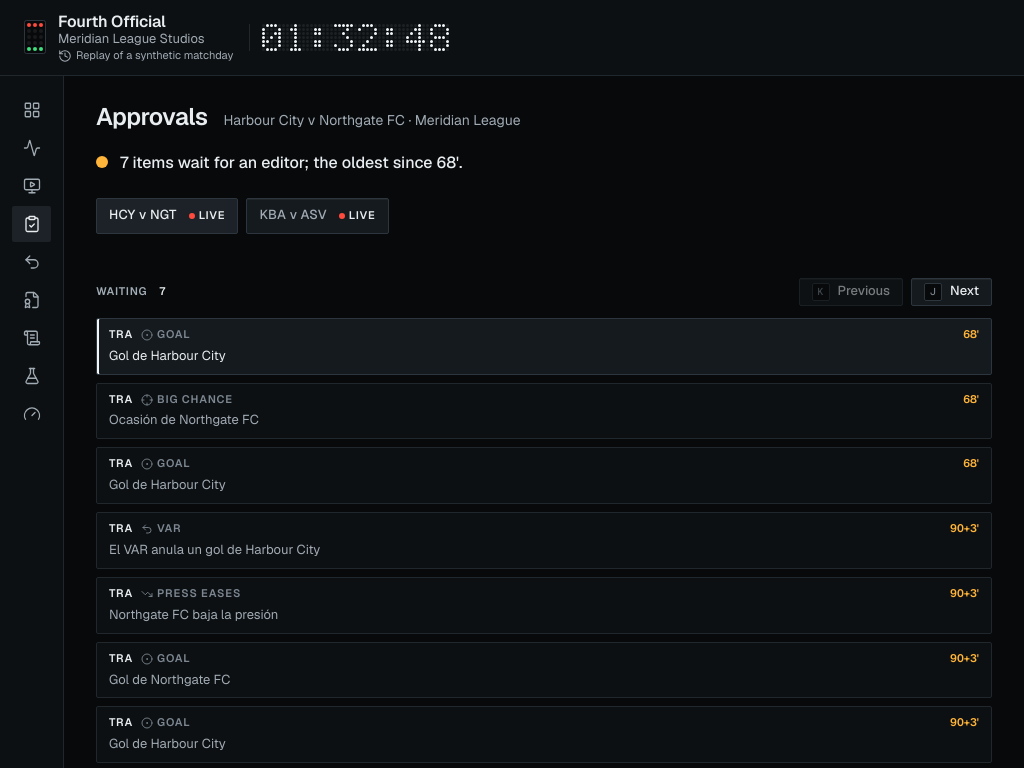
Scenario: Approvals › offers only Reject for an item a correction has since changed
Expected: the text "Harbour City v Northgate FC · Meridian League" is shown, [224,110,521,130]
Click the 2nd button "TRA Goal 68' Gol de Harbour City" at (174, 463), box [96,447,992,504]
(page scrolled)
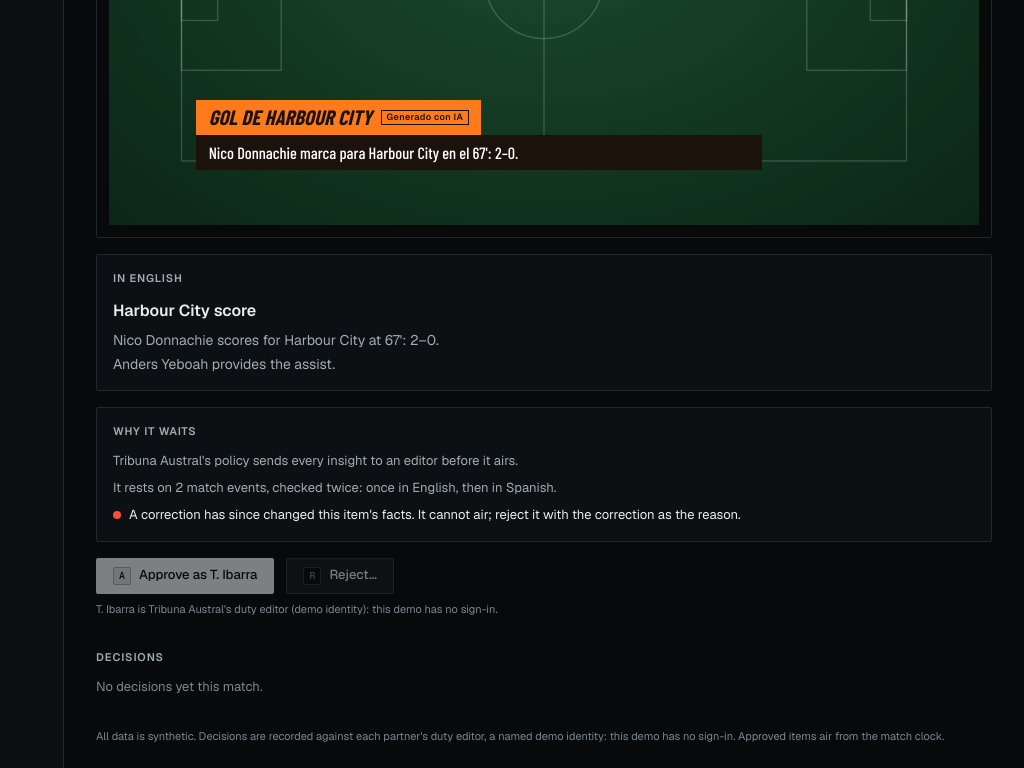
Expected: the text "A correction has since changed this item's facts" is shown, [129,506,741,523]
Expected: the button "A Approve as T. Ibarra" is disabled, [96,558,274,594]
